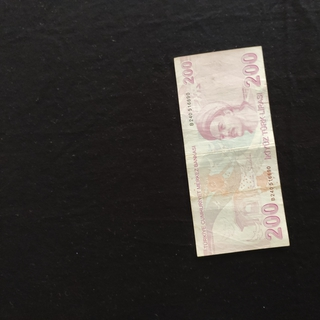200TLBack: (172, 45, 290, 257)
